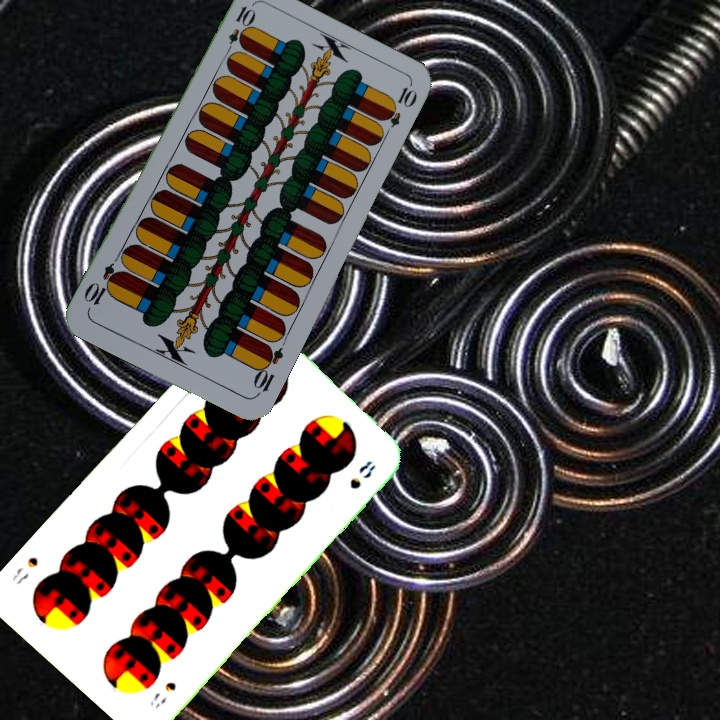E10: (249, 341, 286, 399), (221, 2, 256, 59)
S8: (145, 677, 179, 710)
